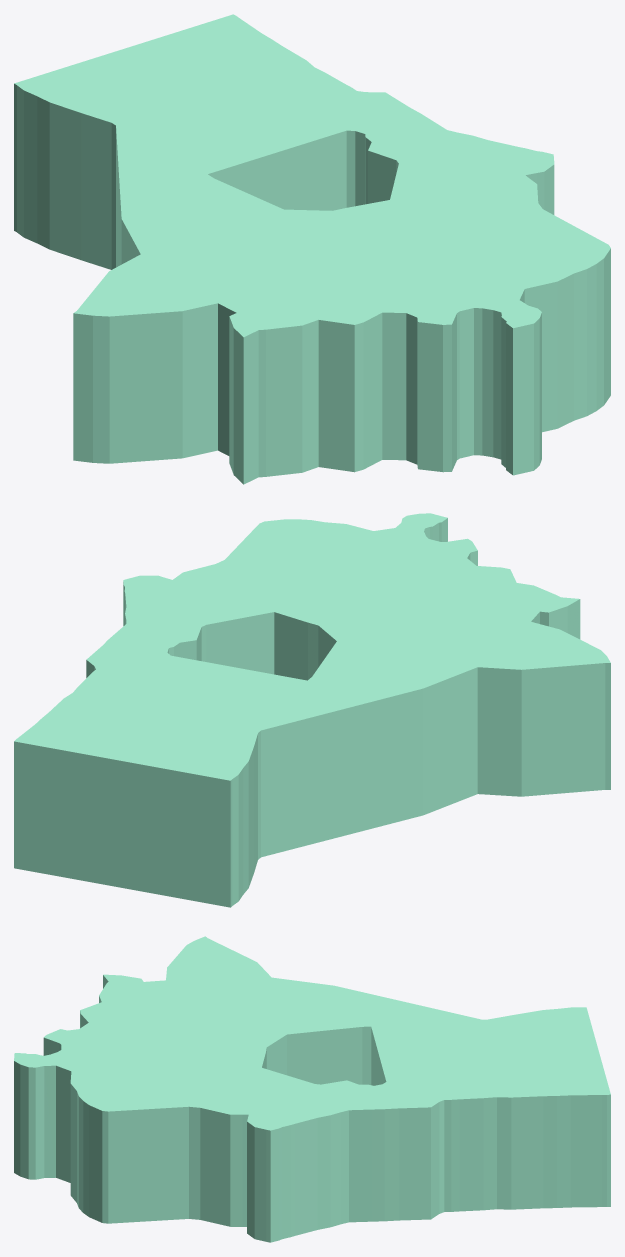
Rendered from edison.glb.
3 views of the same model, one above another, from view 1: azimuth 30°, elevation 25°; view 2: azimuth 150°, elevation 25°; view 3: azimuth 270°, elevation 25° (orthographic). The views are drawn at different scales.
Visible parts, largest first — view 1: Plane.014; view 2: Plane.014; view 3: Plane.014.
Part boxes in pixels (box(x1,y1,x2,y2)): Plane.014: box(14, 14, 610, 484); Plane.014: box(14, 513, 610, 907); Plane.014: box(14, 936, 610, 1242).
Size of the model in its own units: 1.36 by 0.3658 by 1.77.
